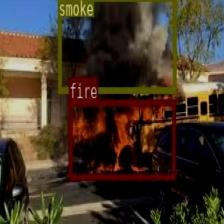fire: (68, 99, 174, 179)
smoke: (58, 0, 175, 91)
